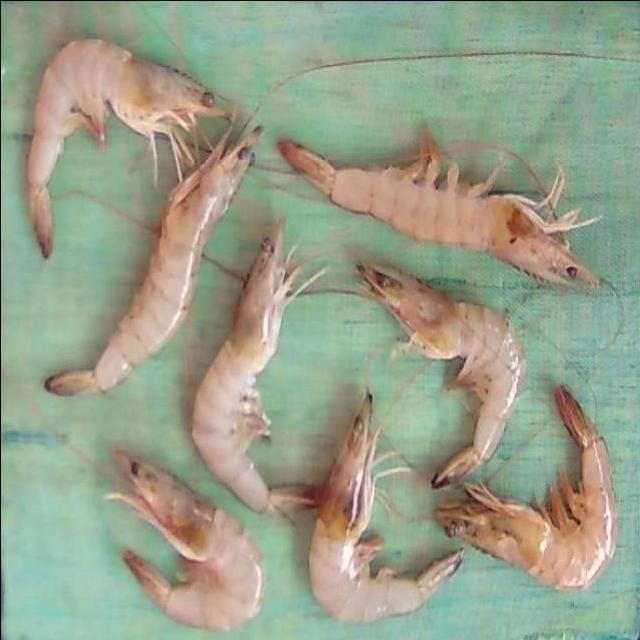shrimp: (43, 127, 259, 395), (277, 131, 599, 285), (24, 37, 228, 257), (358, 263, 525, 489), (434, 387, 617, 590), (308, 392, 463, 622), (190, 222, 297, 514), (107, 451, 263, 630)
